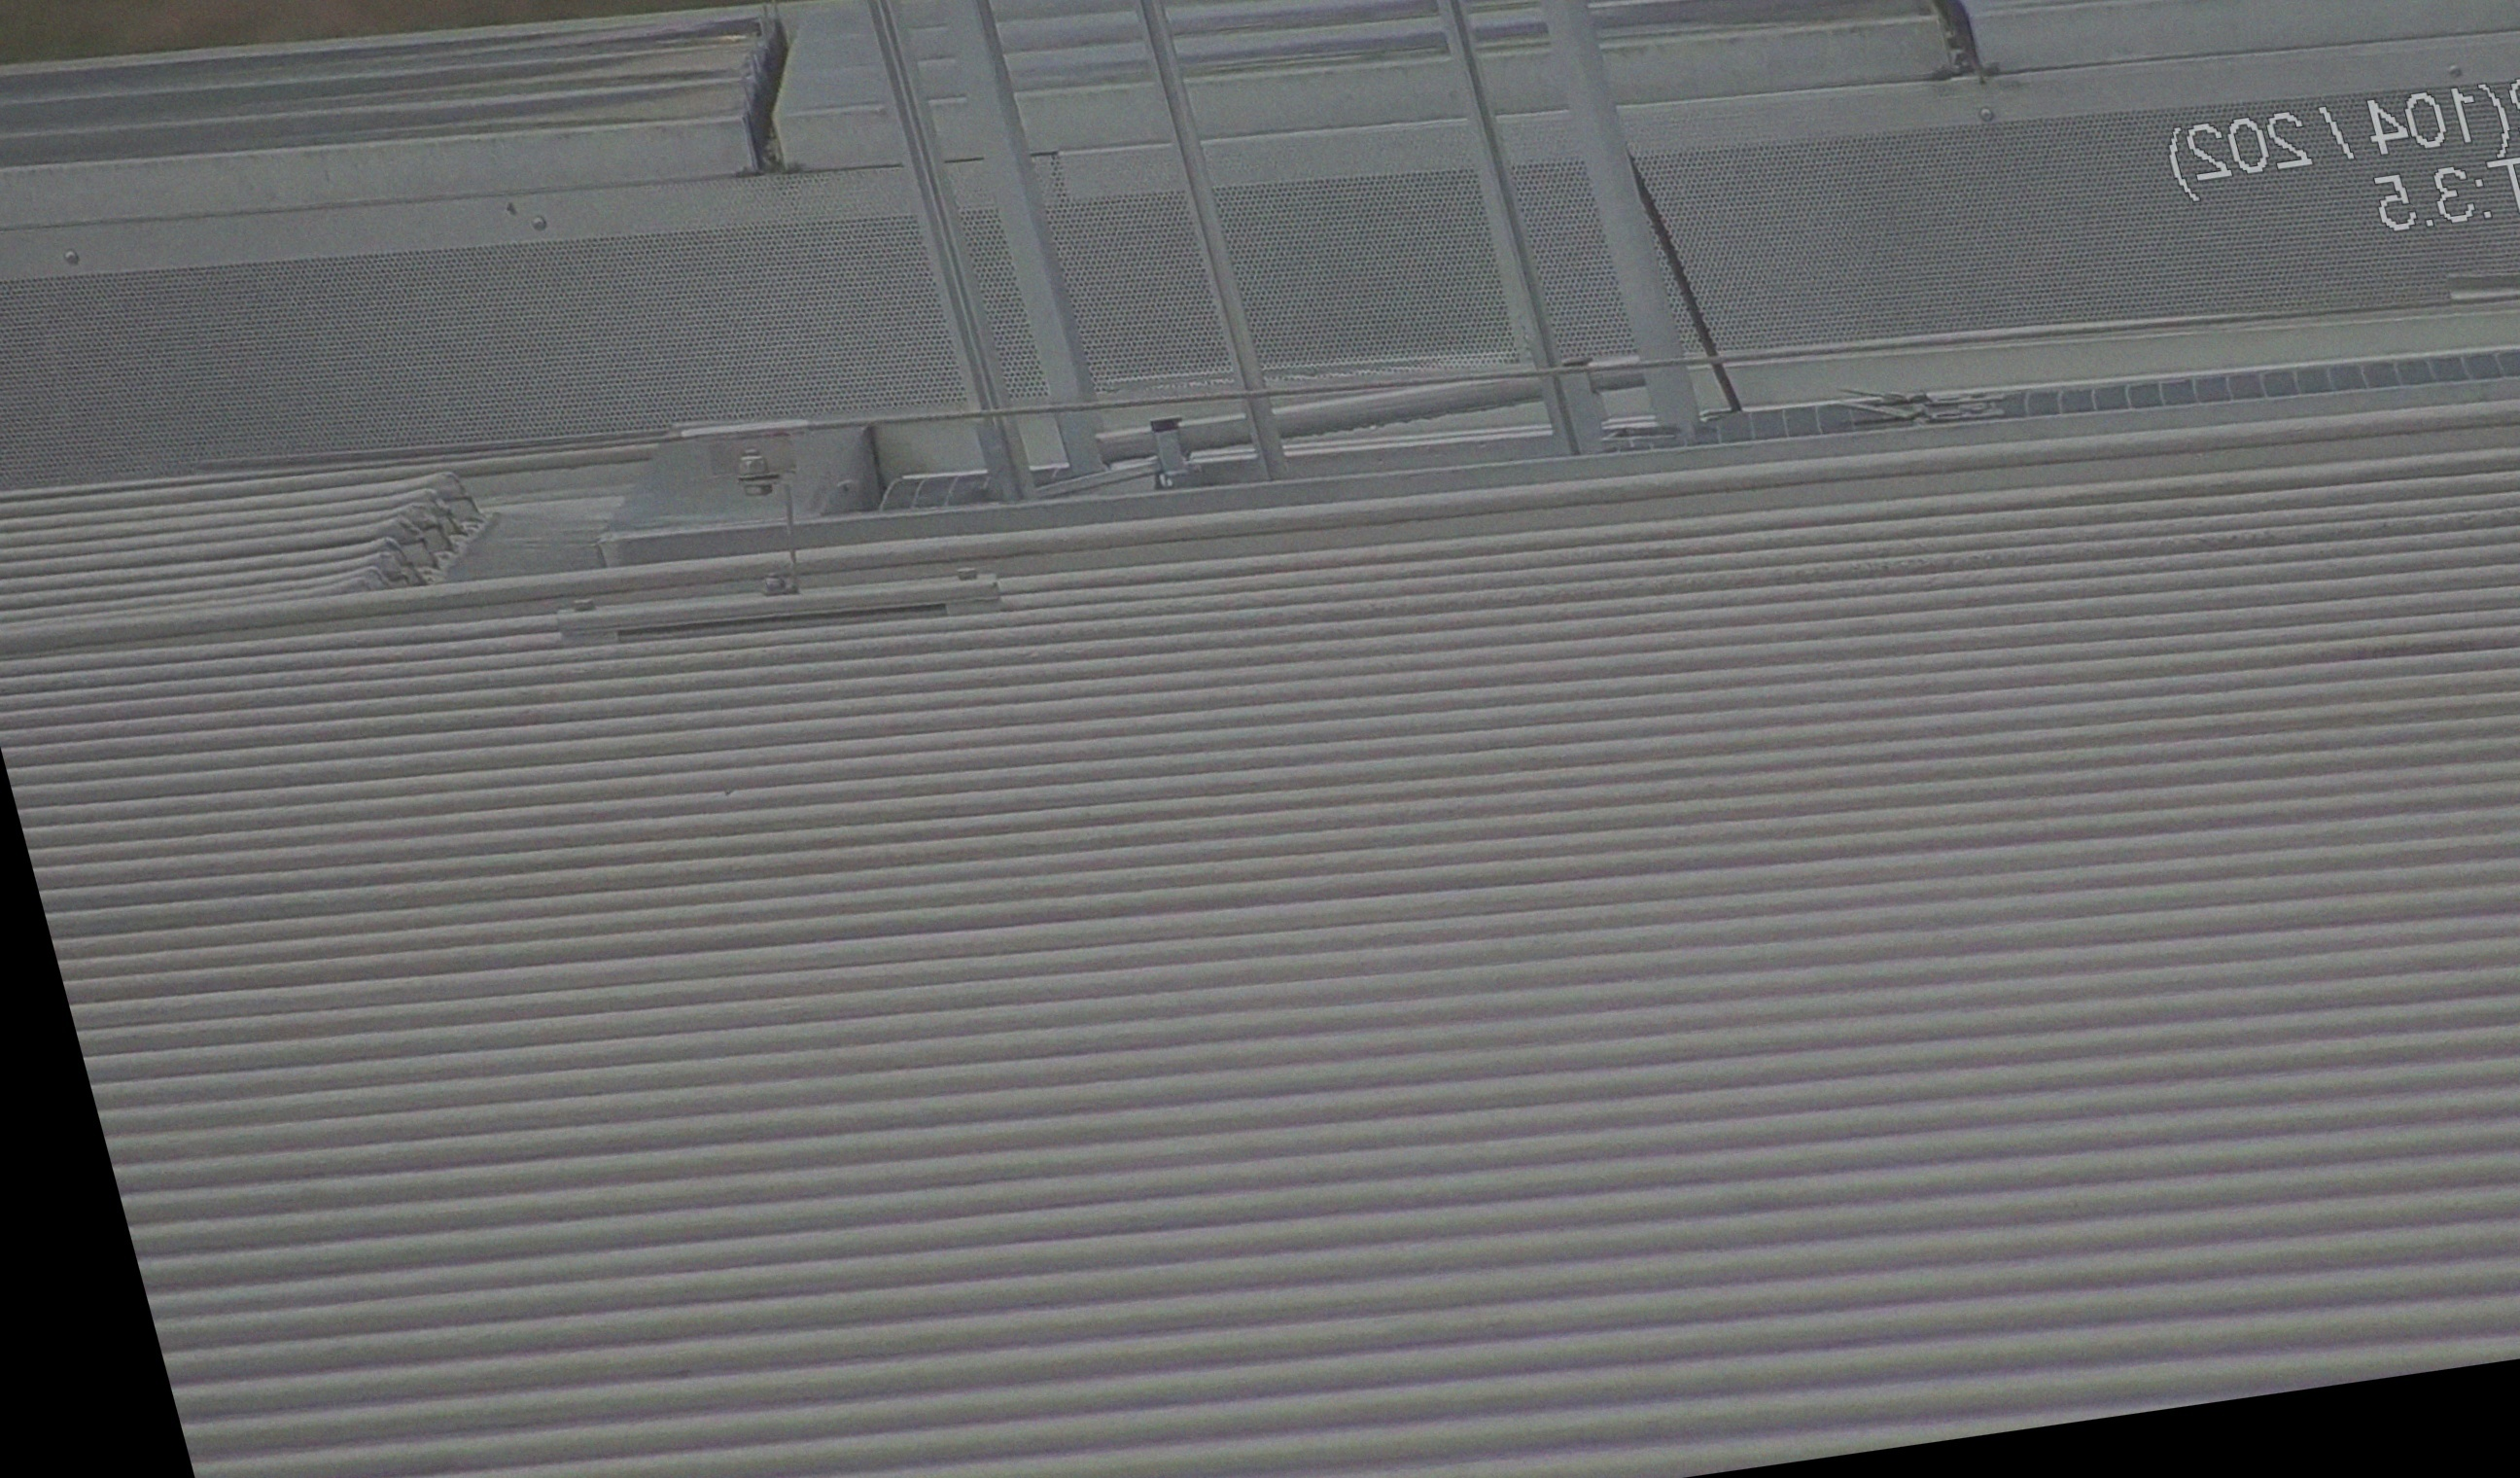Other: (668, 0, 839, 192)
